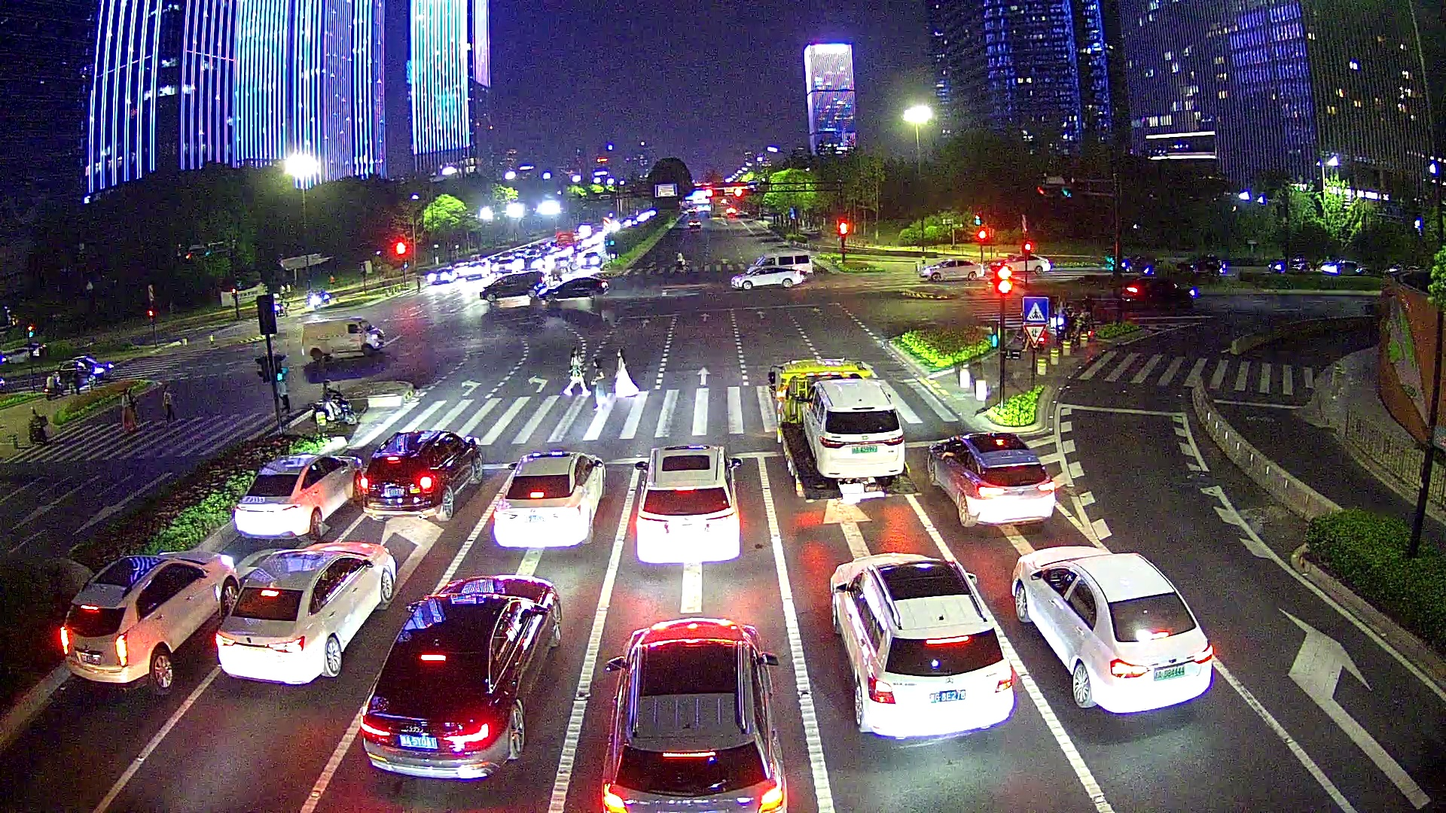person: (609, 346, 642, 400), (560, 344, 591, 398), (589, 358, 612, 411)
vehicle: (349, 571, 565, 777), (1006, 536, 1219, 723), (822, 548, 1016, 748), (596, 607, 786, 808), (213, 528, 398, 687), (47, 538, 236, 688), (764, 349, 917, 512), (630, 437, 747, 565), (923, 425, 1063, 528), (224, 439, 367, 536), (486, 446, 609, 550), (802, 374, 907, 483), (355, 425, 474, 520), (297, 315, 390, 361), (482, 270, 542, 300), (752, 246, 816, 272), (729, 266, 804, 288), (536, 276, 614, 297), (919, 259, 984, 277)
